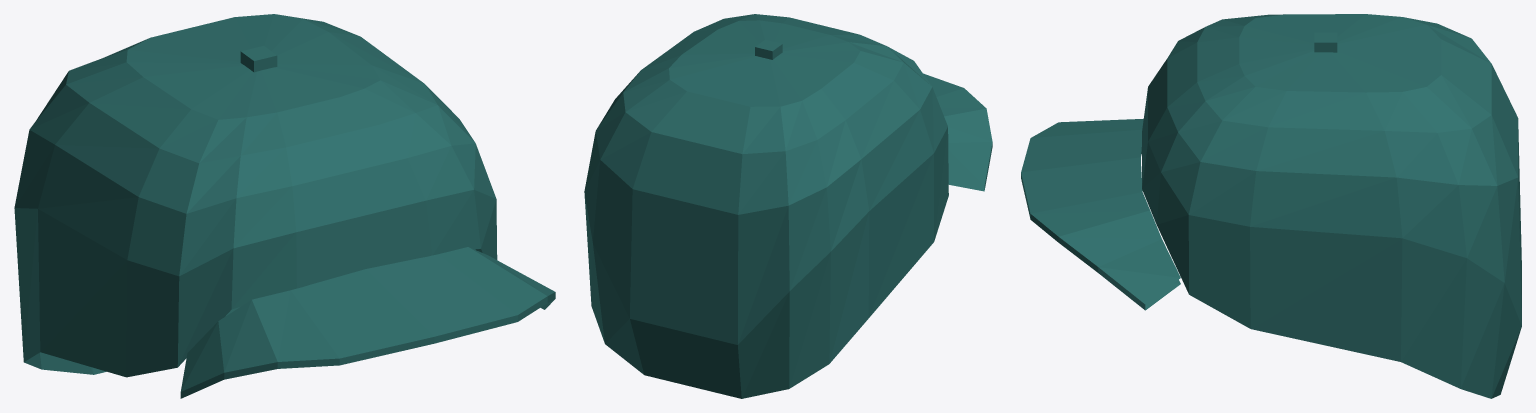
Rendered from headwear-ballcap.glb.
3 views of the same model, side by side, from view 1: azimuth 30°, elevation 25°; view 2: azimuth 150°, elevation 25°; view 3: azimuth 270°, elevation 25° (orthographic). The views are drawn at different scales.
Visible parts, largest first — view 1: headwear-ballcap-0; view 2: headwear-ballcap-0; view 3: headwear-ballcap-0.
Part boxes in pixels (x1=…): headwear-ballcap-0: x1=14, y1=14, x2=555, y2=398; headwear-ballcap-0: x1=584, y1=14, x2=992, y2=398; headwear-ballcap-0: x1=1021, y1=14, x2=1521, y2=398.
Size of the model in its own units: 0.2201 by 0.219 by 0.3015.
